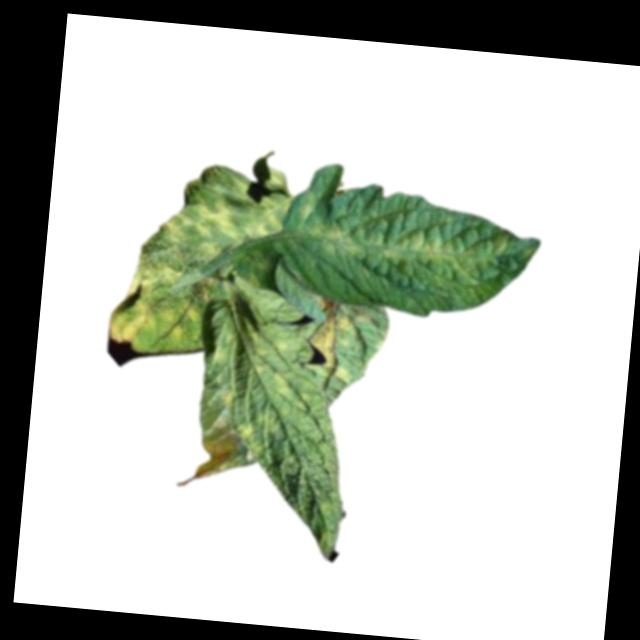Leaf_Mold: (301, 218, 495, 287), (159, 181, 284, 255), (110, 259, 210, 349), (301, 305, 361, 383), (243, 324, 295, 401), (185, 413, 238, 485), (234, 409, 276, 458), (219, 382, 243, 407)
